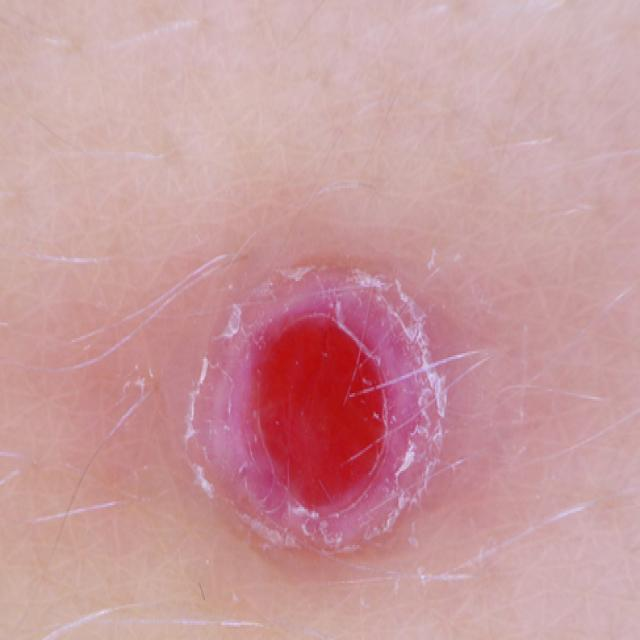Vascular Lesions: (181, 233, 465, 623)
